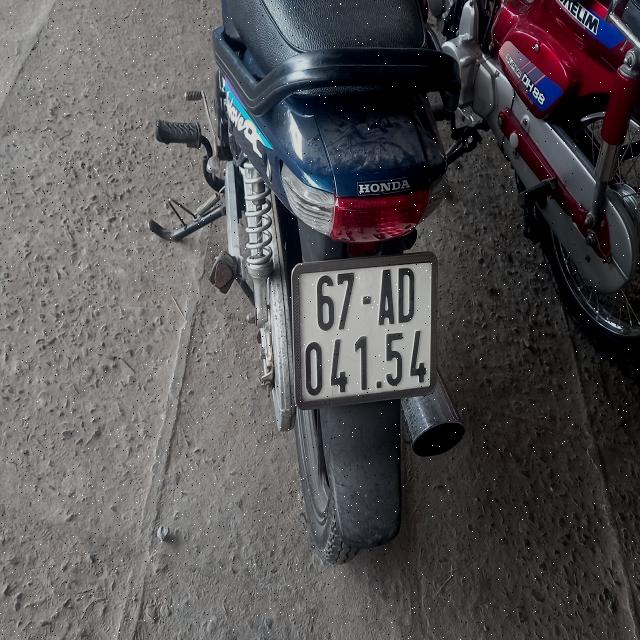0: (304, 342, 323, 395)
1: (354, 335, 367, 391)
4: (329, 338, 349, 394), (410, 330, 426, 383)
5: (386, 332, 402, 388)
6: (316, 274, 334, 330)
7: (336, 272, 354, 330)
A: (378, 270, 394, 326)
D: (396, 266, 416, 324)
